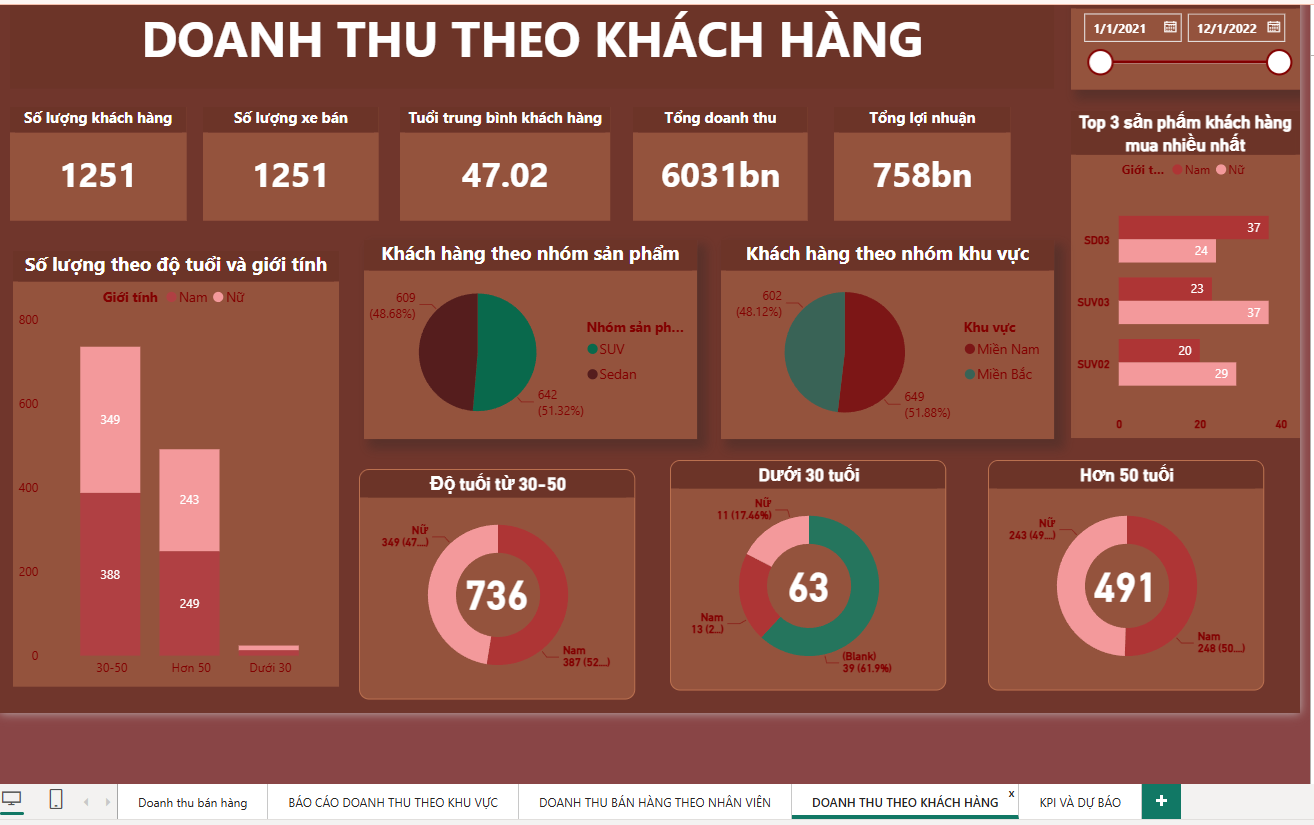

The dashboard page shown, as its layout file describes it:
{"tool":"powerbi","page":{"name":"DOANH THU THEO KHÁCH HÀNG","canvas":[1280,720],"ordinal":3},"visuals":[{"type":"textbox","box":[9.8,0,1028.4,105.1],"z":0},{"type":"card","title":"Số lượng khách hàng","fields":{"Values":["Count(Khách hàng.Mã Khách Hàng)"]},"box":[9.8,123.3,173.7,112.1],"z":1000},{"type":"card","title":"Tuổi trung bình khách hàng","fields":{"Values":["Avg(Khách hàng.Tuổi)"]},"box":[393.7,123.3,207.4,112.1],"z":2000},{"type":"card","title":"Tổng doanh thu","fields":{"Values":["Sum(Bán hàng.Doanh thu)"]},"box":[623.5,123.3,172.3,112.1],"z":3000},{"type":"card","title":"Số lượng xe bán","fields":{"Values":["Sum(Bán hàng.Số lượng)"]},"box":[200.4,123.3,173,112],"z":4000},{"type":"slicer","title":"Thời gian mua","fields":{"Values":["Date.Lịch mua"]},"box":[1055,1.4,225.6,105.1],"z":5000},{"type":"pieChart","title":"Khách hàng theo nhóm sản phẩm","fields":{"Category":["Sản phẩm.Nhóm sản phẩm"],"Y":["CountNonNull(Bán hàng.Mã Khách Hàng)"]},"box":[358.7,253.6,327.8,196.1],"z":6000},{"type":"columnChart","title":"Số lượng theo độ tuổi và giới tính","fields":{"Category":["Khách hàng.Độ tuổi"],"Series":["Khách hàng.Giới tính"],"Y":["Bán hàng.Tổng số lượng"]},"box":[12.6,264.8,320.8,428.7],"z":7000},{"type":"clusteredBarChart","title":"Top 3 sản phẩm khách hàng mua nhiều nhất","fields":{"Y":["Count(Khách hàng.Mã Khách Hàng)"],"Category":["Bán hàng.Mã sản phẩm"],"Series":["Khách hàng.Giới tính"]},"box":[1055,127.5,225.6,322.2],"z":8000},{"type":"donutChart","title":" Độ tuổi từ 30-50","fields":{"Category":["Khách hàng.Giới tính"],"Y":["CountNonNull(Khách hàng.Độ tuổi)"]},"box":[353.1,479.2,271.8,227],"z":9000},{"type":"donutChart","title":"Dưới 30 tuổi","fields":{"Category":["Khách hàng.Giới tính"],"Y":["CountNonNull(Khách hàng.Độ tuổi)"]},"box":[659.9,470.8,271.8,227],"z":10000},{"type":"donutChart","title":"Hơn 50 tuổi","fields":{"Category":["Khách hàng.Giới tính"],"Y":["CountNonNull(Khách hàng.Độ tuổi)"]},"box":[972.3,470.8,271.8,227],"z":11000},{"type":"pieChart","title":"Khách hàng theo nhóm khu vực","fields":{"Y":["CountNonNull(Bán hàng.Mã Khách Hàng)"],"Category":["Khu vực.Khu vực"]},"box":[710.3,253.6,327.8,196.1],"z":12000},{"type":"card","title":"Tổng lợi nhuận","fields":{"Values":["Bán hàng.Tổng lợi nhuận"]},"box":[821,123.3,174,112],"z":13000},{"type":"card","fields":{"Values":["CountNonNull(Khách hàng.Độ tuổi)"]},"box":[444.1,567.4,89.7,65.8],"z":14000},{"type":"card","fields":{"Values":["CountNonNull(Khách hàng.Độ tuổi)"]},"box":[751,559,89.7,65.8],"z":15000},{"type":"card","fields":{"Values":["CountNonNull(Khách hàng.Độ tuổi)"]},"box":[1063.4,559,89.7,65.8],"z":16000}]}

Visuals, with their boxes on the page's 1280x720 design canvas (x1, y1, x2, y2). These are canvas units, not pixel positions in the 1314x825 screenshot, which may show the page scaled, cropped or inside an application window:
textbox: box=[10, 0, 1038, 105]
"Số lượng khách hàng" card: box=[10, 123, 184, 235]
"Tuổi trung bình khách hàng" card: box=[394, 123, 601, 235]
"Tổng doanh thu" card: box=[624, 123, 796, 235]
"Số lượng xe bán" card: box=[200, 123, 373, 235]
"Thời gian mua" slicer: box=[1055, 1, 1281, 106]
"Khách hàng theo nhóm sản phẩm" pieChart: box=[359, 254, 686, 450]
"Số lượng theo độ tuổi và giới tính" columnChart: box=[13, 265, 333, 694]
"Top 3 sản phẩm khách hàng mua nhiều nhất" clusteredBarChart: box=[1055, 128, 1281, 450]
" Độ tuổi từ 30-50" donutChart: box=[353, 479, 625, 706]
"Dưới 30 tuổi" donutChart: box=[660, 471, 932, 698]
"Hơn 50 tuổi" donutChart: box=[972, 471, 1244, 698]
"Khách hàng theo nhóm khu vực" pieChart: box=[710, 254, 1038, 450]
"Tổng lợi nhuận" card: box=[821, 123, 995, 235]
card - CountNonNull(Khách hàng.Độ tuổi): box=[444, 567, 534, 633]
card - CountNonNull(Khách hàng.Độ tuổi): box=[751, 559, 841, 625]
card - CountNonNull(Khách hàng.Độ tuổi): box=[1063, 559, 1153, 625]
